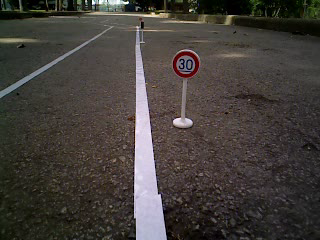limit 30: (171, 49, 201, 81)
